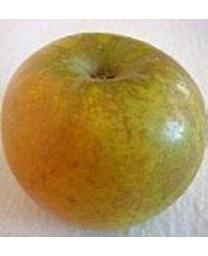apple: (3, 32, 206, 230)
